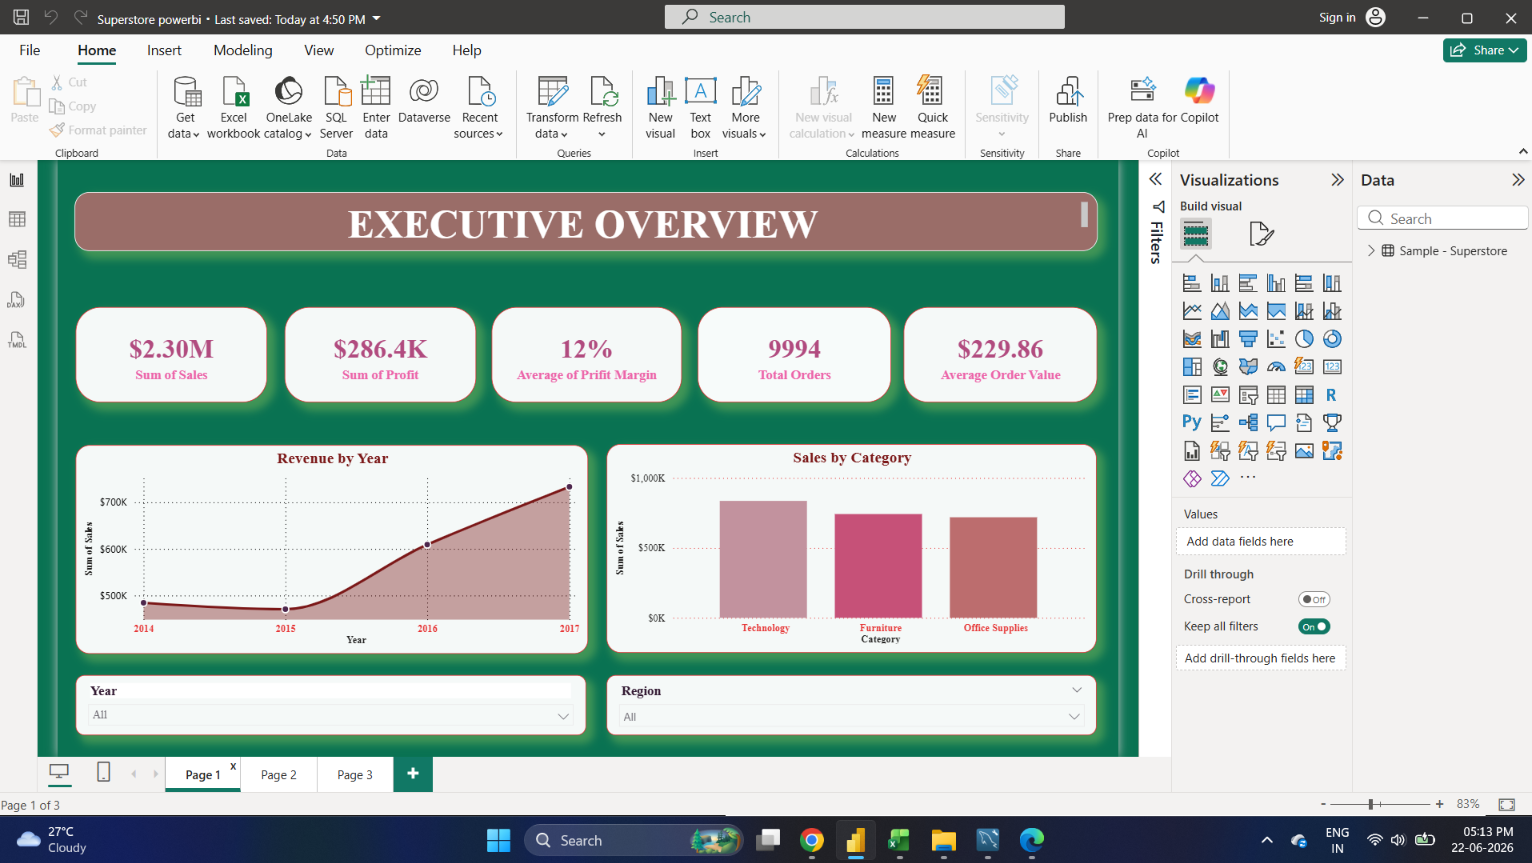

The dashboard page shown, as its layout file describes it:
{"tool":"powerbi","page":{"name":"Page 1","canvas":[1280,720],"ordinal":0},"visuals":[{"type":"card","fields":{"Values":["Sum(Sample - Superstore.Sales)"]},"box":[21.4,176.7,230.9,115.5],"z":0},{"type":"card","fields":{"Values":["Sum(Sample - Superstore.Profit)"]},"box":[273.7,176.7,230.9,115.5],"z":1000},{"type":"card","fields":{"Values":["Avg(Sample - Superstore.Prifit Margin)"]},"box":[523.1,176.7,229.5,115.5],"z":2000},{"type":"card","fields":{"Values":["CountNonNull(Sample - Superstore.Row ID)"]},"box":[772.6,176.7,233.8,115.5],"z":3000},{"type":"card","fields":{"Values":["Avg(Sample - Superstore.Sales)"]},"box":[1020.6,176.7,233.8,115.5],"z":4000},{"type":"lineChart","title":"Revenue by Year","fields":{"Category":["Sample - Superstore.Order Date.Variation.Date Hierarchy.Year"],"Y":["Sum(Sample - Superstore.Sales)"]},"box":[21.4,343.5,618.6,252.3],"z":5000},{"type":"columnChart","title":"Sales by Category","fields":{"Y":["Sum(Sample - Superstore.Sales)"],"Category":["Sample - Superstore.Category"]},"box":[662.8,342.1,591.5,252.3],"z":6000},{"type":"textbox","box":[20,38.5,1234.4,71.3],"z":7000},{"type":"slicer","fields":{"Values":["Sample - Superstore.Order Date.Variation.Date Hierarchy.Year"]},"box":[21.4,621.5,615.8,72.7],"z":8000},{"type":"slicer","fields":{"Values":["Sample - Superstore.Region"]},"box":[662.8,621.5,591.5,72.7],"z":9000}]}

Visuals, with their boxes on the page's 1280x720 design canvas (x1, y1, x2, y2). These are canvas units, not pixel positions in the 1532x863 screenshot, which may show the page scaled, cropped or inside an application window:
card - Sum(Sample - Superstore.Sales): (x1=21, y1=177, x2=252, y2=292)
card - Sum(Sample - Superstore.Profit): (x1=274, y1=177, x2=505, y2=292)
card - Avg(Sample - Superstore.Prifit Margin): (x1=523, y1=177, x2=753, y2=292)
card - CountNonNull(Sample - Superstore.Row ID): (x1=773, y1=177, x2=1006, y2=292)
card - Avg(Sample - Superstore.Sales): (x1=1021, y1=177, x2=1254, y2=292)
"Revenue by Year" lineChart: (x1=21, y1=344, x2=640, y2=596)
"Sales by Category" columnChart: (x1=663, y1=342, x2=1254, y2=594)
textbox: (x1=20, y1=38, x2=1254, y2=110)
slicer - Sample - Superstore.Order Date.Variation.Date Hierarchy.Year: (x1=21, y1=622, x2=637, y2=694)
slicer - Sample - Superstore.Region: (x1=663, y1=622, x2=1254, y2=694)
